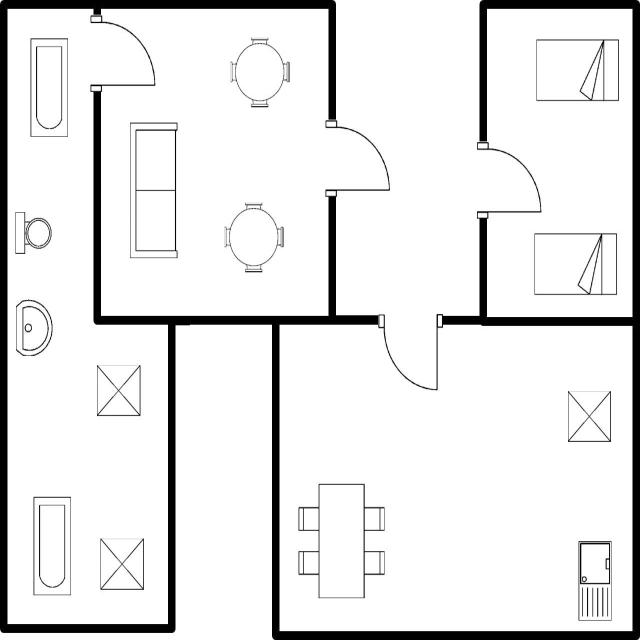bed: (529, 227, 623, 301), (532, 33, 624, 106)
coffee_table: (96, 532, 148, 595), (563, 385, 615, 447), (94, 360, 144, 423)
dining_table: (293, 477, 388, 606)
large_sink: (11, 208, 53, 261)
large_sofa: (126, 116, 180, 262)
round_table: (224, 32, 294, 114), (221, 198, 289, 277)
sink: (573, 534, 617, 626)
small_sink: (11, 294, 55, 360)
tub: (25, 31, 71, 142), (29, 491, 75, 600)
